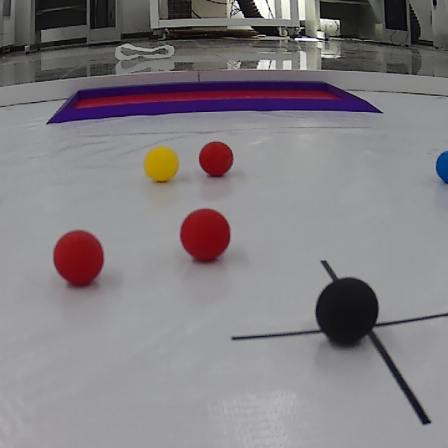black: (313, 275, 380, 350)
blue: (436, 149, 448, 182)
red: (52, 229, 104, 287), (174, 211, 233, 259), (196, 142, 238, 175)
red_aim: (52, 83, 380, 119)
yellow: (143, 145, 179, 183)
